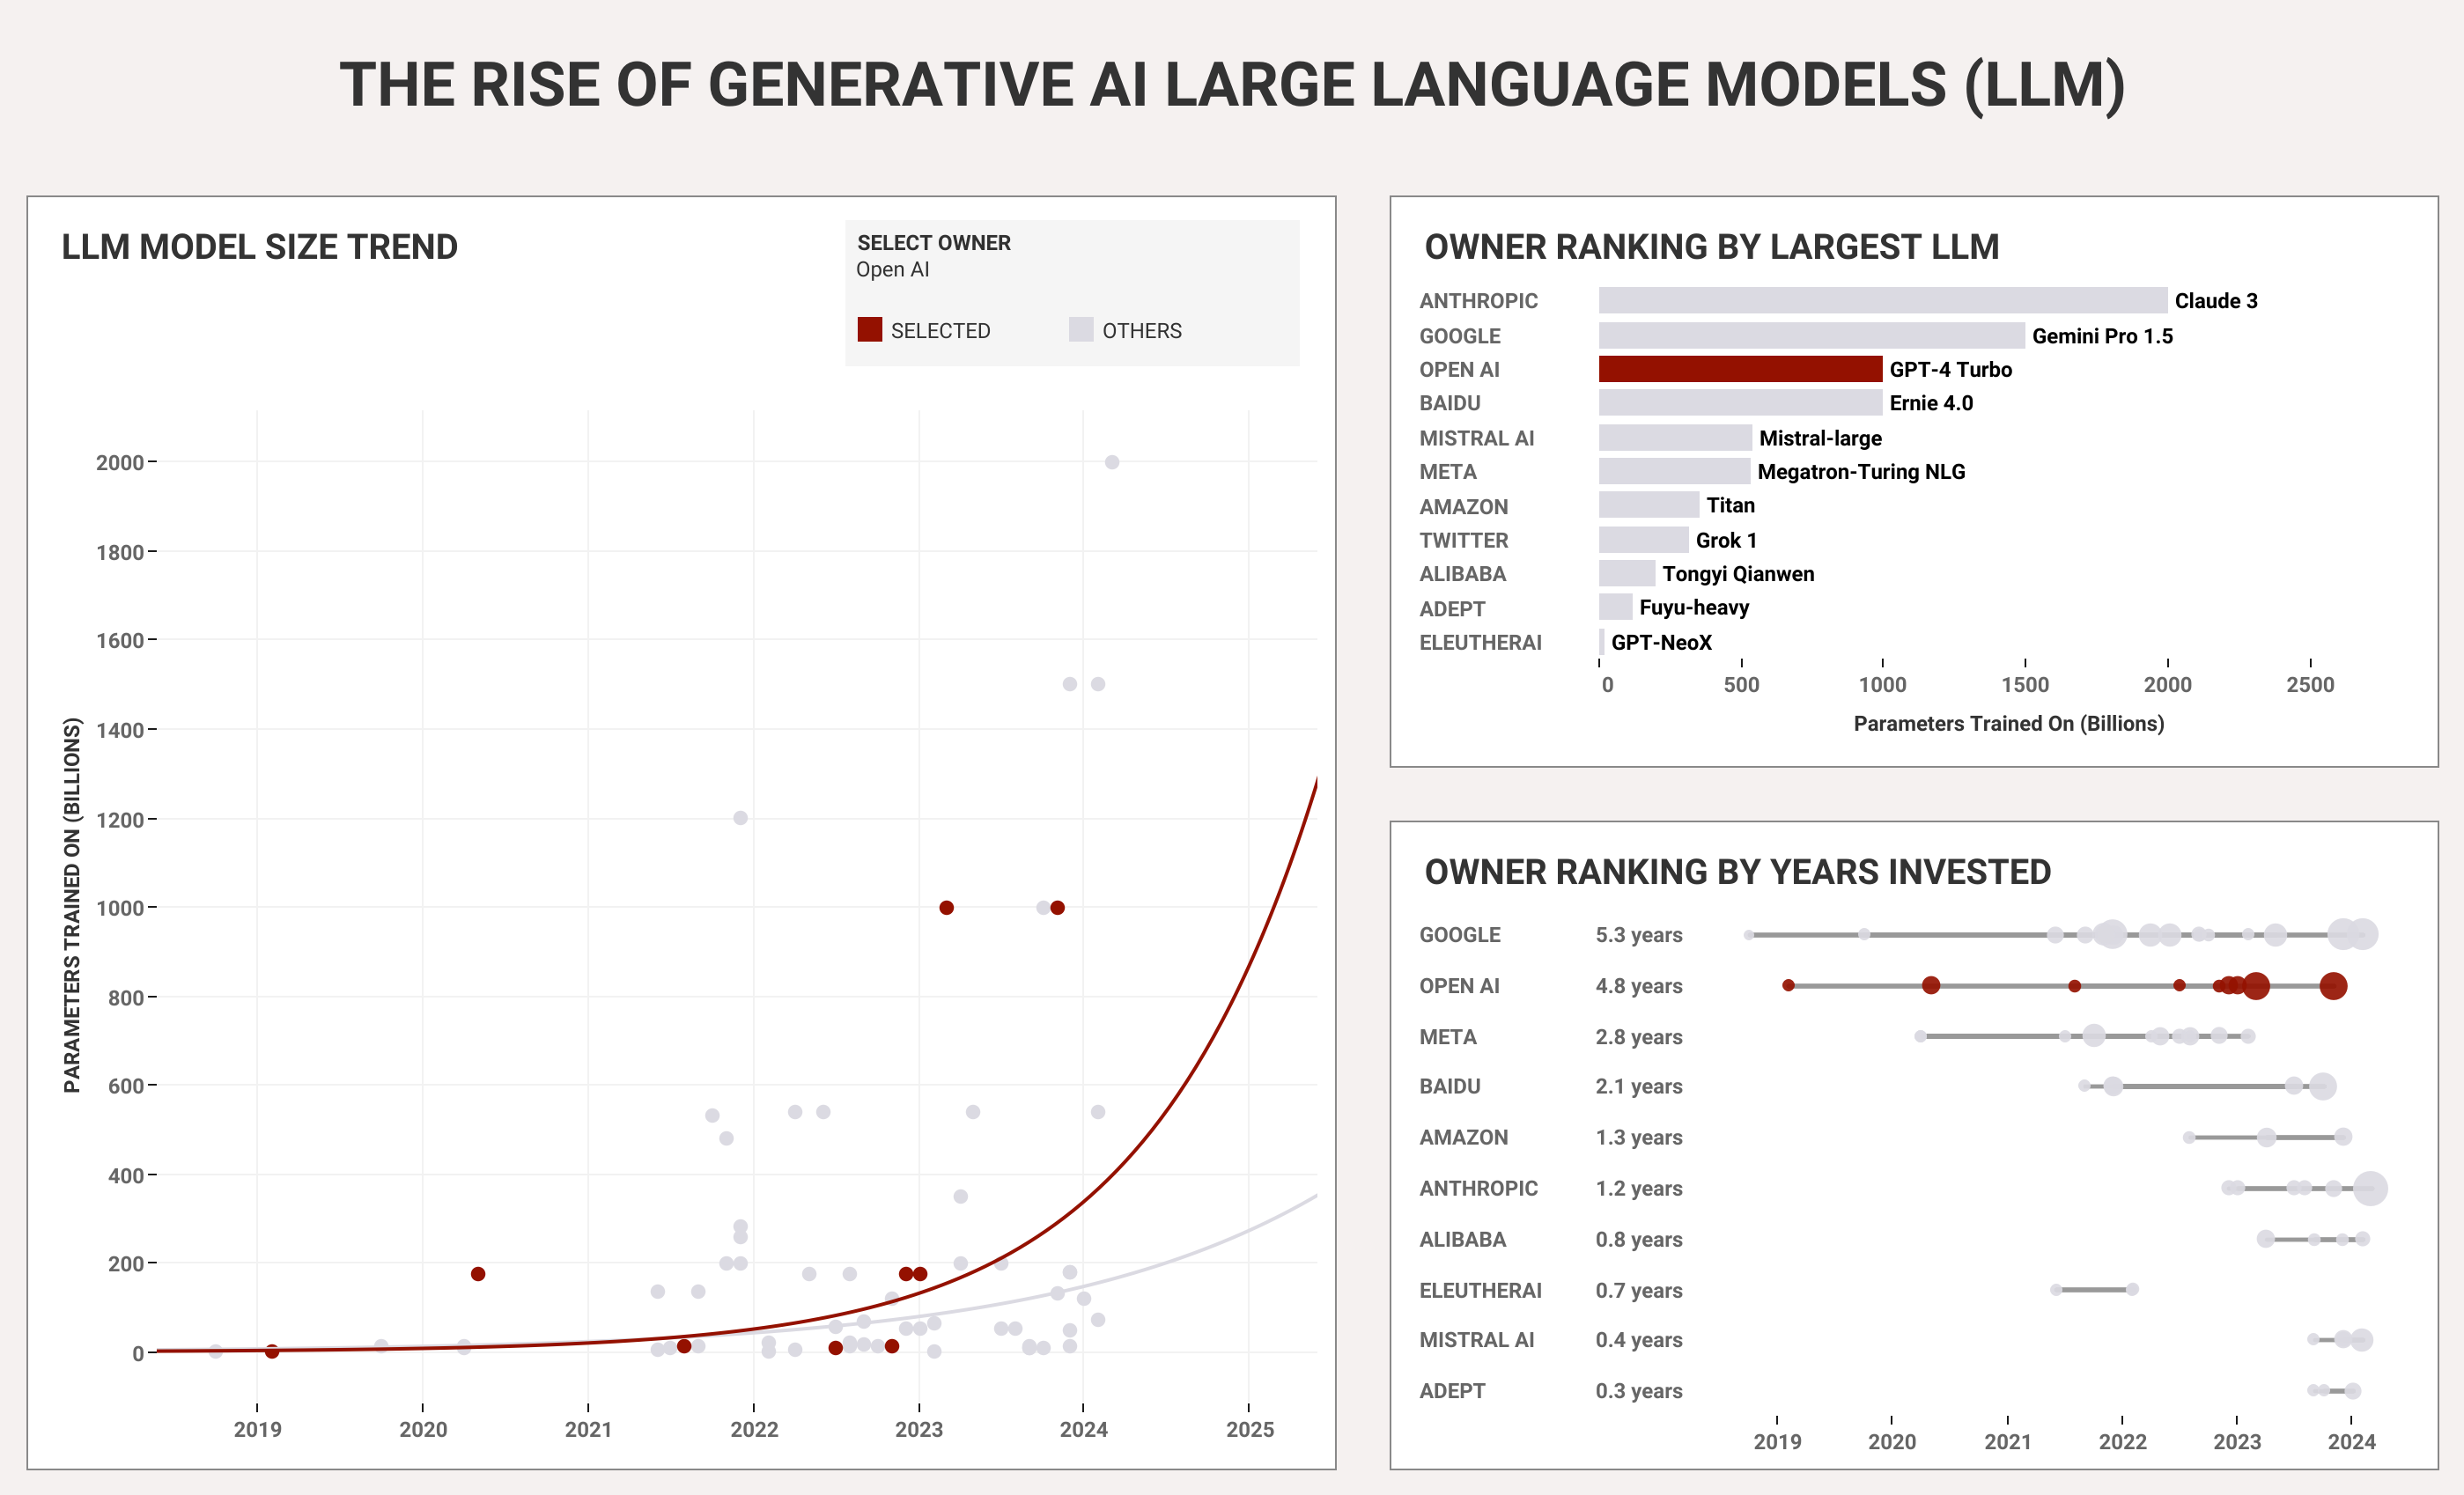

Layout of this report page (visuals, bound fields, positions):
{"tool":"tableau","page":{"name":"The Rise and Rise of AI LLMs","canvas":[1400,850],"ordinal":0},"visuals":[{"type":"text","box":[0,0,1400,90.1]},{"type":"worksheet","title":"Model Size Trend","mark":"Circle","rows":["trained on x billion parameters"],"cols":["date"],"box":[16,106,742,673]},{"type":"worksheet","title":"Owner Ranking By Largest Model","mark":"Automatic","rows":["Calculation_1997627948709953541"],"cols":["trained on x billion parameters"],"box":[790,106.1,594,322.9]},{"type":"parameter","param":"[Parameters].[Parameter 1]","box":[480,125,258,48]},{"type":"legend","title":"Owner Ranking By Largest Model","param":"[federated.1yi30521k8hczw1deqfkn03pajem].[none:Calculation_1997627948700209155:n","box":[480,173,258,35]},{"type":"worksheet","title":"Owner Ranking by Years Invested","mark":"Circle","rows":["Calculation_1997627948709953541","Calculation_322851835831193604"],"cols":["date","date"],"box":[790,461.1,594,318.2]},{"type":"text","box":[0,795.3,1400,54.7]}]}

Visuals, with their boxes in screenshot pixels (x1, y1, x2, y2), scaled from the page's 1400x850 canvas onto the 2464x1495 screenshot:
text: <region>0, 0, 2463, 158</region>
"Model Size Trend" worksheet (Circle marks): <region>28, 187, 1334, 1370</region>
"Owner Ranking By Largest Model" worksheet: <region>1391, 187, 2436, 755</region>
parameter: <region>845, 220, 1299, 305</region>
"Owner Ranking By Largest Model" legend: <region>845, 305, 1299, 366</region>
"Owner Ranking by Years Invested" worksheet (Circle marks): <region>1391, 811, 2436, 1371</region>
text: <region>0, 1399, 2463, 1494</region>
